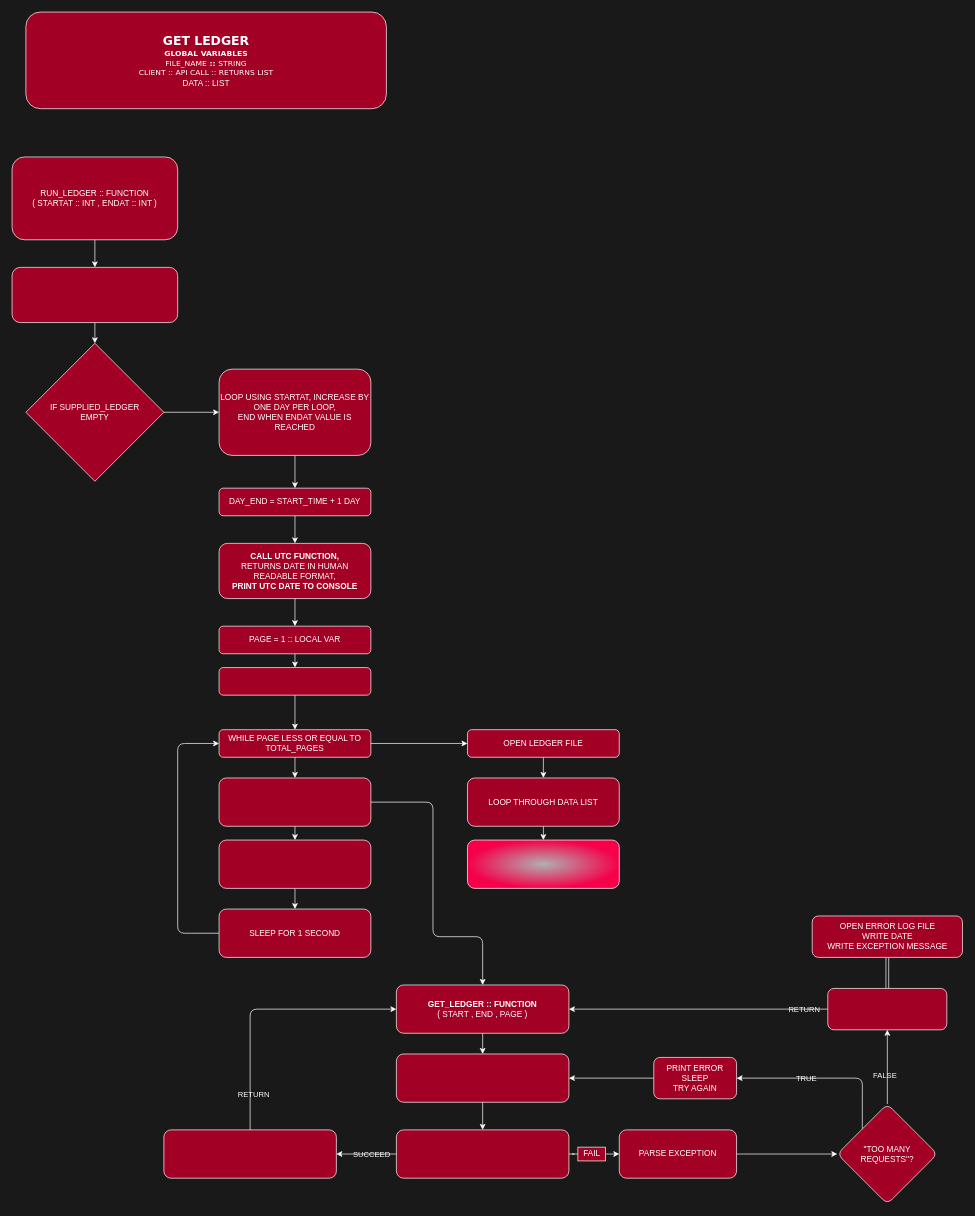
This 975x1216 diagram has some shape labels left out. Here are the shapes that lost their labels. From the top down, the centre of each, then its label:
At point 94,295: "SUPPLIED_LEDGER :: FUNCTION CALL RETURNS LIST".
At point 294,681: "TOTAL_PAGES = 2 :: LOCAL VAR".
At point 294,801: "TOTAL_PAGES = GET_LEDGER (DAY_START, DAY_END, PAGE RETURNS NUMBER OF PAGES".
At point 294,863: "INCREASE PAGE BY 1".
At point 543,863: "STORE LEDGER AS JSON".
At point 887,1009: "LOG ERROR RETURN VALUE TO TRY NEXT LEDGER ITEM".
At point 482,1077: "WHILE NO ERRORS OCCUR".
At point 249,1153: "APPEND GLOBAL DATA LIST WITH RETURNED DATA RETURN LEDGER['TOTALPAGE']".
At point 482,1153: "TRY FETCH LEDGER LEDGER = KUCOIN SDK FUNCTION CALL".
